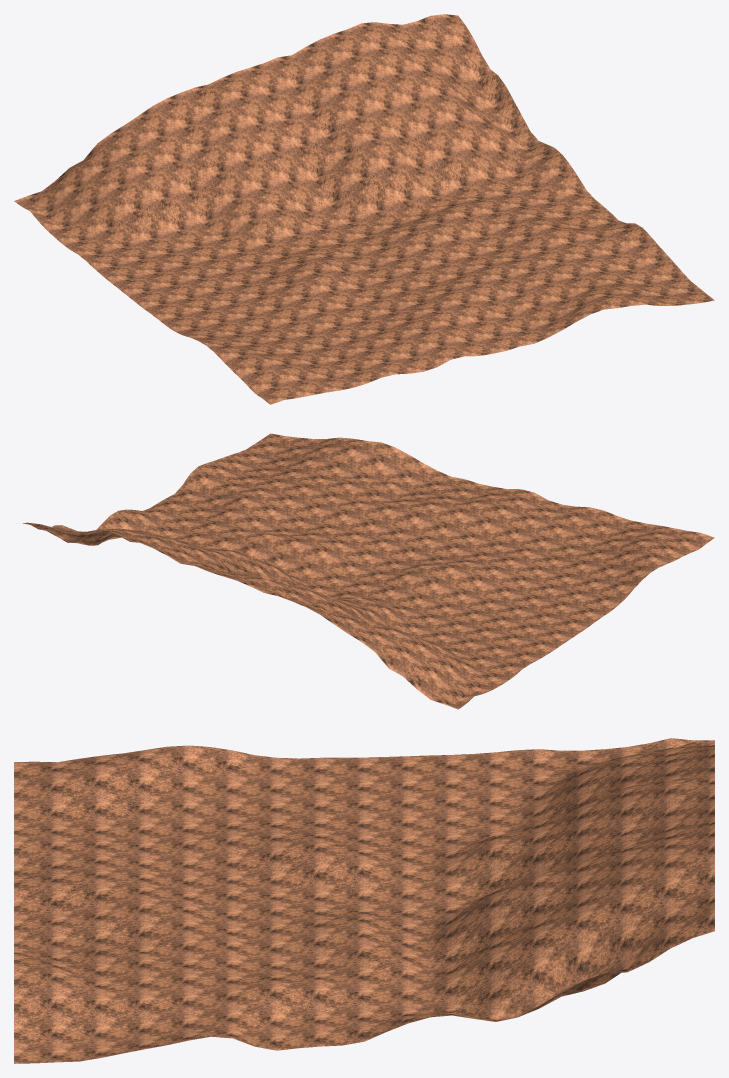
File: terrain_04_03.dae
The picture shows the model from 3 angles, top to bottom: view 1: azimuth 30°, elevation 25°; view 2: azimuth 150°, elevation 25°; view 3: azimuth 270°, elevation 25°; orthographic projection. The views are drawn at different scales.
Visible parts, largest first — view 1: terrain_04_03-node; view 2: terrain_04_03-node; view 3: terrain_04_03-node.
Boxes of the visible parts, x1=… form: terrain_04_03-node: x1=14, y1=14, x2=714, y2=404; terrain_04_03-node: x1=23, y1=433, x2=714, y2=709; terrain_04_03-node: x1=14, y1=738, x2=714, y2=1063.
Bounding box in the file's own units: 128 × 128 × 31.13.
Materials: 1 (1 with a texture image).
